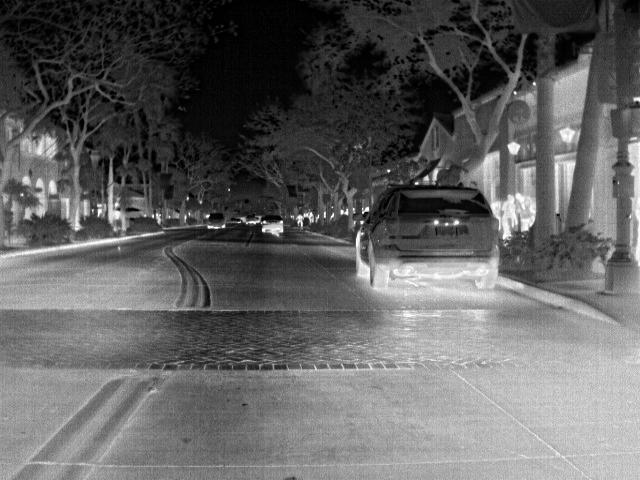car: (351, 184, 501, 292), (259, 214, 283, 235), (204, 212, 228, 231)
person: (512, 190, 536, 232), (498, 191, 518, 240), (294, 212, 305, 229)
